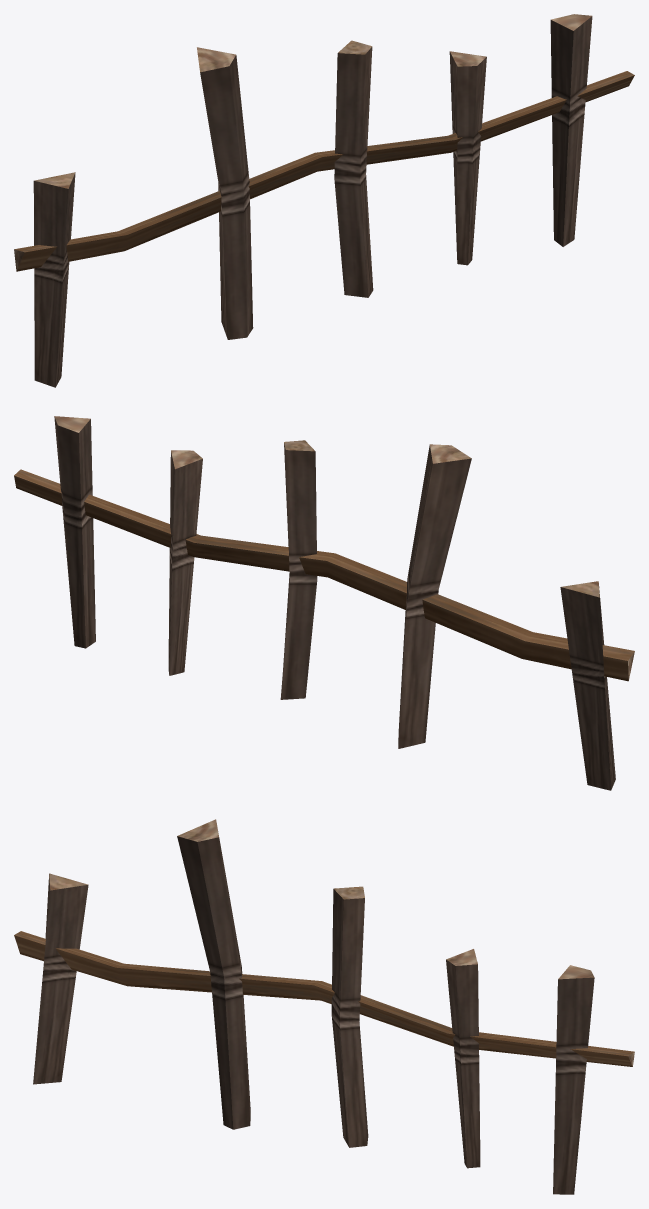
Rendered from daliang_field_a_s07.fbx.
The picture shows the model from 3 angles, top to bottom: view 1: azimuth 30°, elevation 25°; view 2: azimuth 150°, elevation 25°; view 3: azimuth 330°, elevation 25°; orthographic projection.
Parts seen in each view (by area): view 1: daliang_field_a_s07_; view 2: daliang_field_a_s07_; view 3: daliang_field_a_s07_.
Boxes of the visible parts, x1=… form: daliang_field_a_s07_: x1=14, y1=14, x2=634, y2=387; daliang_field_a_s07_: x1=14, y1=416, x2=634, y2=790; daliang_field_a_s07_: x1=14, y1=819, x2=634, y2=1194.
Size of the model in its own units: 433 by 196 by 37.3.
